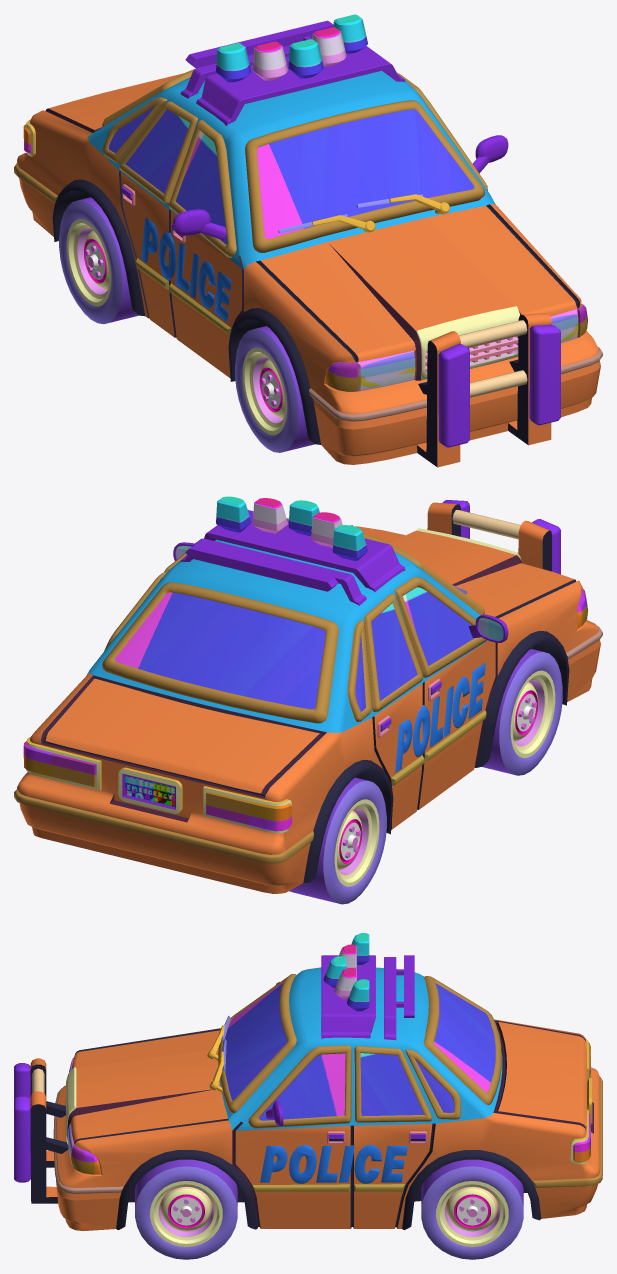
Rendered from BluePoliceCar_GRP.fbx.
The picture shows the model from 3 angles, top to bottom: view 1: azimuth 30°, elevation 25°; view 2: azimuth 150°, elevation 25°; view 3: azimuth 270°, elevation 25°; orthographic projection. The views are drawn at different scales.
Parts seen in each view (by area): view 1: BluePoliceCar_mesh, BluePoliceCar_Wheel_BR_mesh, BluePoliceCar_Wheel_FR_mesh; view 2: BluePoliceCar_mesh, BluePoliceCar_Wheel_BR_mesh, BluePoliceCar_Wheel_FR_mesh; view 3: BluePoliceCar_mesh, BluePoliceCar_Wheel_FL_mesh, BluePoliceCar_Wheel_BL_mesh.
Boxes of the visible parts, bbox=[...] form: BluePoliceCar_mesh: bbox=[14, 14, 602, 467]; BluePoliceCar_Wheel_BR_mesh: bbox=[59, 197, 138, 324]; BluePoliceCar_Wheel_FR_mesh: bbox=[235, 326, 314, 452]; BluePoliceCar_mesh: bbox=[14, 496, 602, 893]; BluePoliceCar_Wheel_BR_mesh: bbox=[289, 777, 386, 904]; BluePoliceCar_Wheel_FR_mesh: bbox=[481, 649, 562, 775]; BluePoliceCar_mesh: bbox=[14, 933, 602, 1230]; BluePoliceCar_Wheel_FL_mesh: bbox=[135, 1159, 237, 1259]; BluePoliceCar_Wheel_BL_mesh: bbox=[421, 1159, 523, 1259].
Size of the model in its own units: 1.56 by 1.36 by 2.94.
